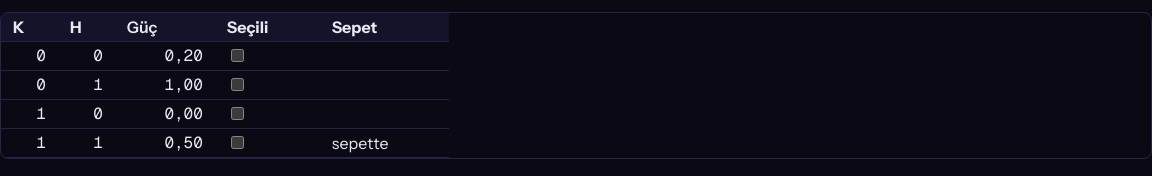
Test: Liste view selection is the same store as the heatmap
The width and height of the screenshot is (1152, 176).
Click the checkbox named "K1 · H0 seç" at (237, 114), box [231,107,244,120]
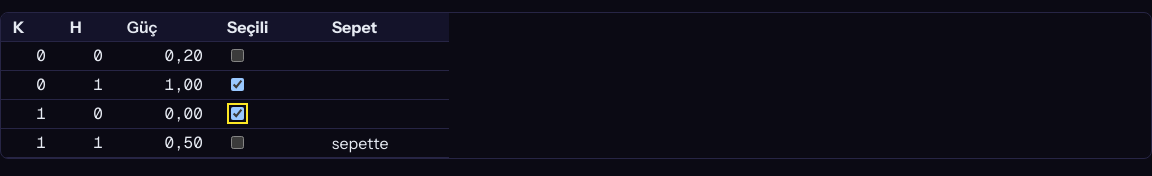
Expected: the text "sepette" is shown, [320,128,449,158]
Now the checkbox named "K0 · H1 seç" is checked, box [231,78,244,91]
